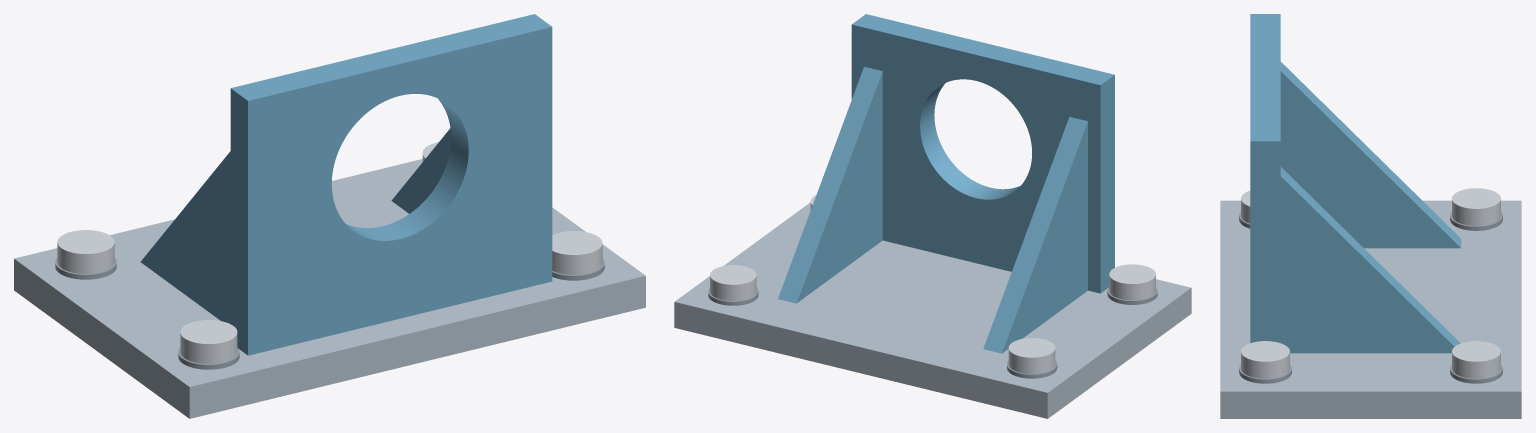
Rendered from mounting-bracket.glb.
3 renders of one model, left to right at view 1: azimuth 30°, elevation 25°; view 2: azimuth 150°, elevation 25°; view 3: azimuth 270°, elevation 25°, orthographic. The views are drawn at different scales.
Parts seen in each view (by area): view 1: Upright, Base plate, Left gusset, Bolt 1, Bolt 2, Bolt 4, Right gusset; view 2: Base plate, Upright, Right gusset, Left gusset, Bolt 1, Bolt 2, Bolt 3; view 3: Base plate, Right gusset, Left gusset, Upright, Bolt 1, Bolt 3, Bolt 4, Washer 3, Washer 4, Washer 1, Bolt 2.
Boxes of the visible parts, left/top/right/bottom form: Upright: left=230, top=14, right=552, bottom=355; Base plate: left=14, top=159, right=645, bottom=418; Left gusset: left=141, top=151, right=230, bottom=323; Bolt 1: left=57, top=230, right=114, bottom=273; Bolt 2: left=180, top=320, right=237, bottom=363; Bolt 4: left=552, top=231, right=602, bottom=274; Right gusset: left=391, top=128, right=450, bottom=213; Base plate: left=674, top=202, right=1191, bottom=418; Upright: left=851, top=14, right=1114, bottom=293; Right gusset: left=778, top=66, right=882, bottom=303; Left gusset: left=983, top=116, right=1087, bottom=353; Bolt 1: left=1008, top=338, right=1055, bottom=373; Bolt 2: left=1109, top=264, right=1155, bottom=300; Bolt 3: left=710, top=265, right=756, bottom=300; Base plate: left=1220, top=200, right=1521, bottom=418; Right gusset: left=1280, top=167, right=1460, bottom=353; Left gusset: left=1280, top=62, right=1461, bottom=248; Upright: left=1250, top=14, right=1280, bottom=342; Bolt 1: left=1452, top=188, right=1500, bottom=225; Bolt 3: left=1452, top=341, right=1500, bottom=378; Bolt 4: left=1241, top=341, right=1289, bottom=378; Washer 3: left=1450, top=365, right=1502, bottom=383; Washer 4: left=1239, top=365, right=1291, bottom=383; Washer 1: left=1450, top=212, right=1502, bottom=230; Bolt 2: left=1241, top=190, right=1250, bottom=223.
Size of the model in its own units: 0.12 by 0.072 by 0.08.
